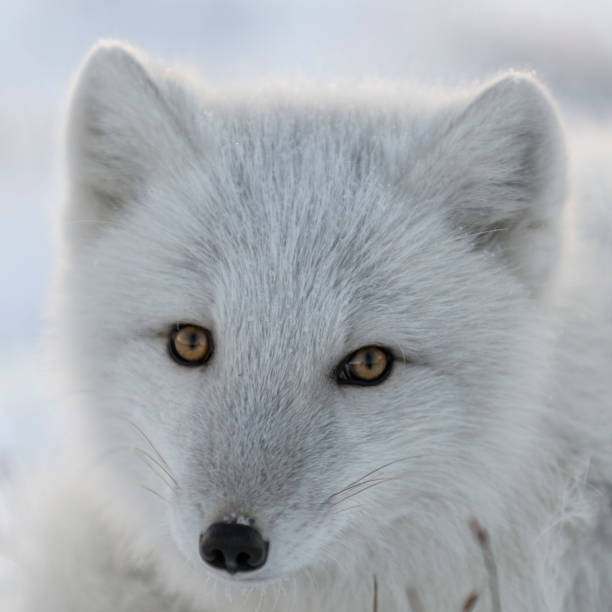arcticfox: (134, 243, 408, 587)
